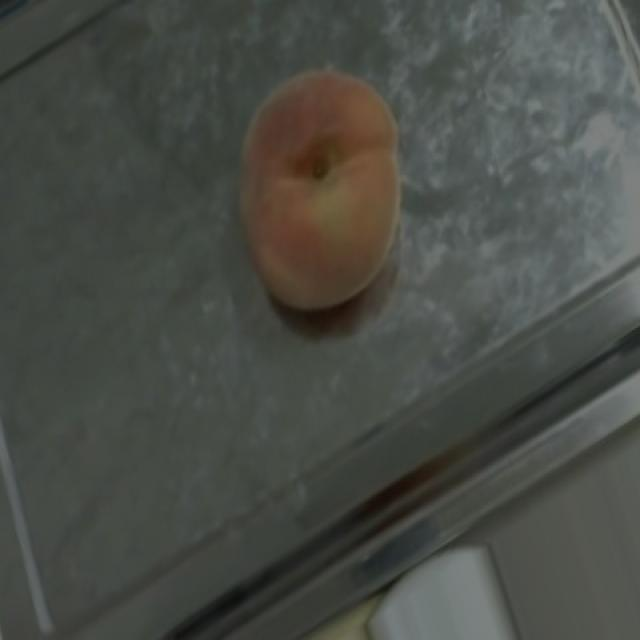Fruit: (191, 42, 448, 352)
